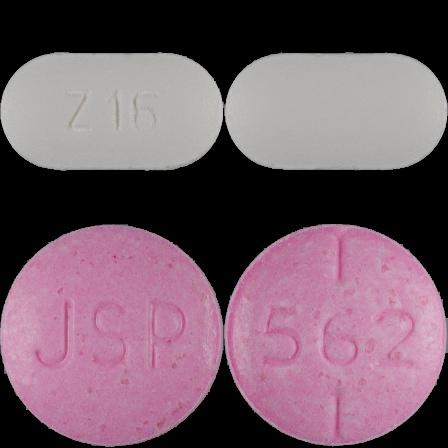63629-4238: (0, 0, 224, 224)
